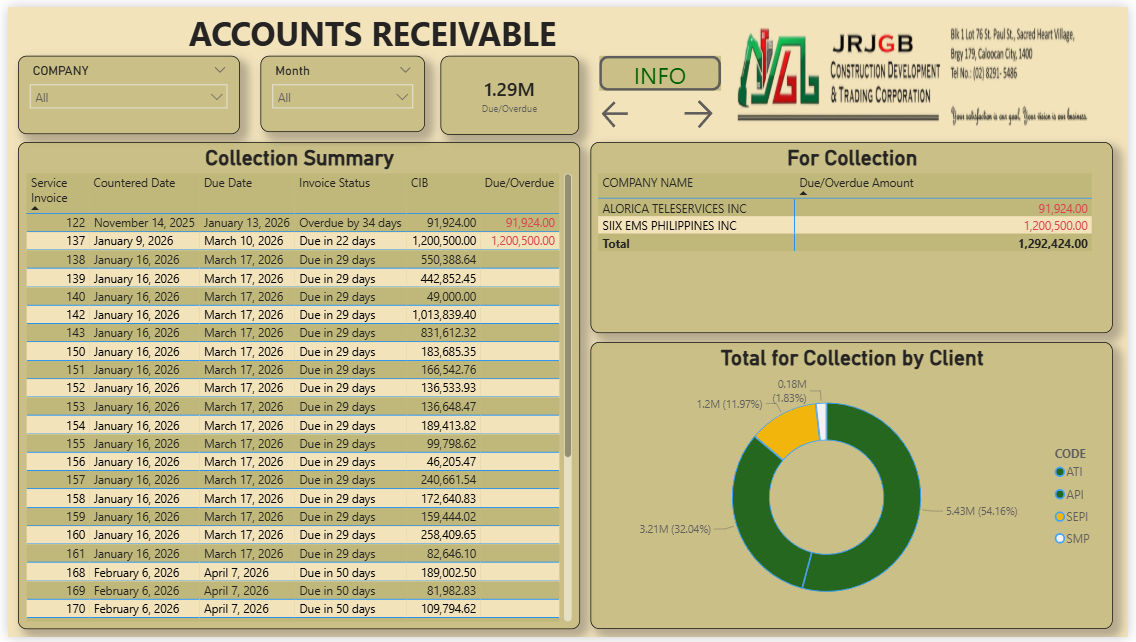

What the dashboard file says about the page in this screenshot:
{"tool":"powerbi","page":{"name":"Accounts Receivable","canvas":[1280,720],"ordinal":1},"visuals":[{"type":"textbox","box":[11.2,0,810,63.8],"z":0},{"type":"image","box":[831.2,12.5,431.2,131.2],"z":1000},{"type":"actionButton","title":"HOME","box":[675.5,55.5,139.1,40],"z":2000},{"type":"slicer","fields":{"Values":["CUSTOMER INFO.CODE"]},"box":[10.9,55.5,253.4,89.3],"z":3000},{"type":"actionButton","box":[766.9,101.5,47.7,42.3],"z":4000},{"type":"cardVisual","fields":{"Data":["_Measure.Due/Overdue"]},"box":[493.8,55,158.8,90],"z":5000},{"type":"tableEx","title":"Collection Summary","fields":{"Values":["ISSUE INVOICES.SERVICE INVOICE","ISSUE INVOICES.COUNTERED DATE","_Measure.Due Date","_Measure.Invoice Status","Sum(ISSUE INVOICES.CIB)","_Measure.Due/Overdue"]},"box":[11,153.7,642.2,557.1],"z":6000},{"type":"pivotTable","title":"For Collection","fields":{"Rows":["CUSTOMER INFO.COMPANY NAME"],"Values":["_Measure.Due/Overdue"]},"box":[665.5,153.7,596.9,218.2],"z":7000},{"type":"donutChart","title":"Total for Collection  by Client","fields":{"Category":["CUSTOMER INFO.CODE"],"Y":["Sum(ISSUE INVOICES.CIB)"]},"box":[665.5,382.8,596.9,328],"z":8000},{"type":"actionButton","box":[675,102.5,60,40],"z":9000},{"type":"slicer","fields":{"Values":["Calendar.Month Name"]},"box":[288.3,55.5,188.2,86.9],"z":10000}]}

Visuals, with their boxes in screenshot pixels (x1, y1, x2, y2), scaled from the page's 1280x720 canvas onto the 1136x642 screenshot:
textbox: Rect(10, 0, 729, 57)
image: Rect(738, 11, 1120, 128)
"HOME" actionButton: Rect(600, 49, 723, 85)
slicer - CUSTOMER INFO.CODE: Rect(10, 49, 235, 129)
actionButton: Rect(681, 91, 723, 128)
cardVisual - _Measure.Due/Overdue: Rect(438, 49, 579, 129)
"Collection Summary" tableEx: Rect(10, 137, 580, 634)
"For Collection" pivotTable: Rect(591, 137, 1120, 332)
"Total for Collection  by Client" donutChart: Rect(591, 341, 1120, 634)
actionButton: Rect(599, 91, 652, 127)
slicer - Calendar.Month Name: Rect(256, 49, 423, 127)
